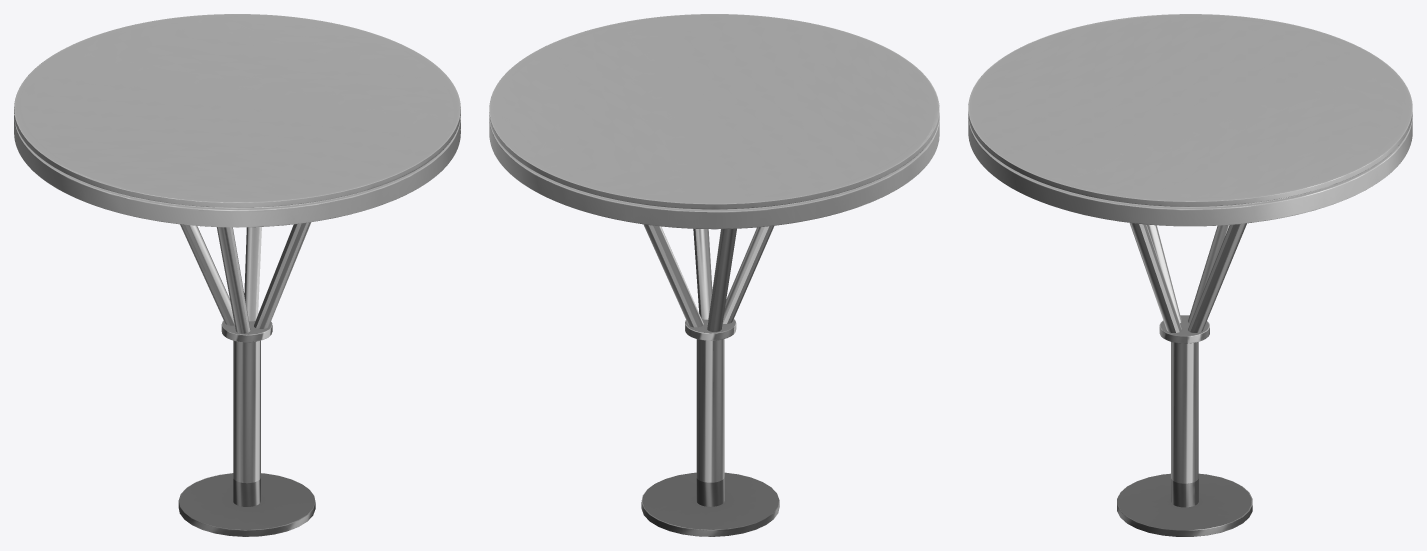
File: Table2.obj
3 views of the same model, side by side, from view 1: azimuth 30°, elevation 25°; view 2: azimuth 150°, elevation 25°; view 3: azimuth 270°, elevation 25° (orthographic).
Parts seen in each view (by area): view 1: solid_002, solid_001, solid_003; view 2: solid_002, solid_001, solid_003; view 3: solid_002, solid_001, solid_003.
Part boxes in pixels (x1,y1,x2,y2): solid_002: [14, 14, 460, 227]; solid_001: [180, 222, 311, 483]; solid_003: [178, 473, 315, 536]; solid_002: [489, 14, 939, 229]; solid_001: [643, 224, 774, 482]; solid_003: [641, 472, 779, 536]; solid_002: [968, 14, 1412, 226]; solid_001: [1129, 223, 1246, 483]; solid_003: [1117, 473, 1252, 536].
Bounding box in the file's own units: 1.35 × 1.33 × 1.35.
Materials: 1 (1 with a texture image).
